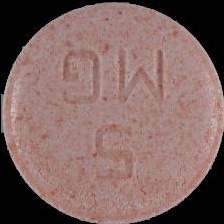13668-080: (0, 0, 224, 224)
